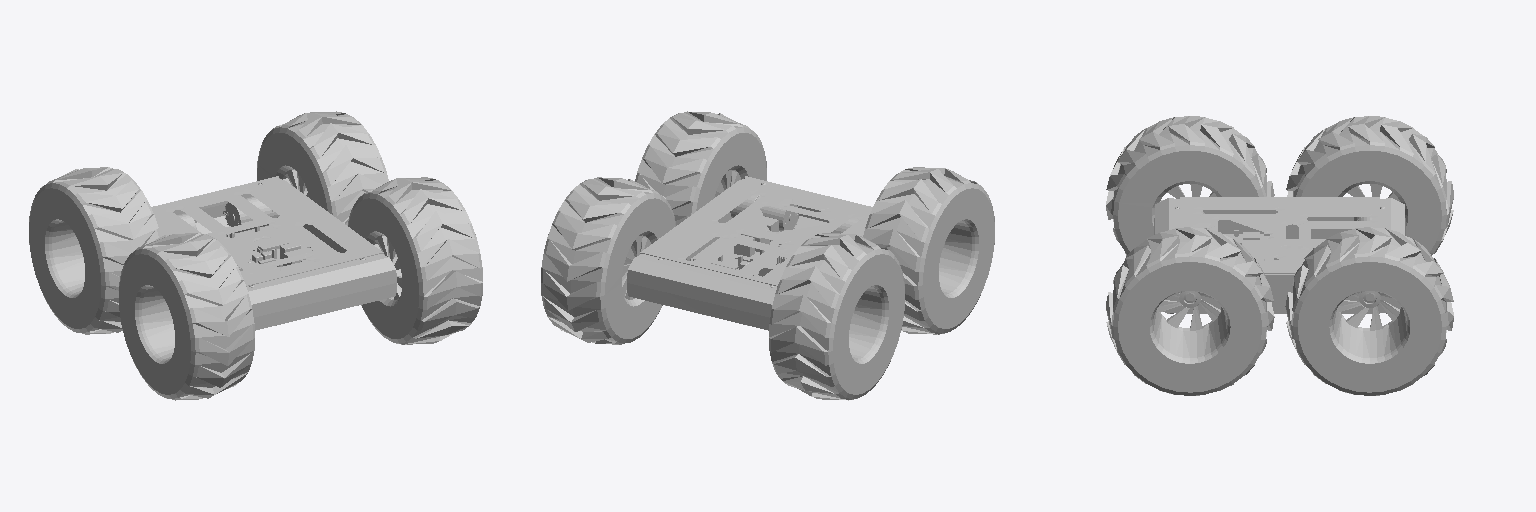
File: rover2asamblat.obj
3 renders of one model, left to right at view 1: azimuth 30°, elevation 25°; view 2: azimuth 150°, elevation 25°; view 3: azimuth 270°, elevation 25°, orthographic.
Parts seen in each view (by area): view 1: Cylinder.012_Cylinder.017, Cube.001_Cube.002; view 2: Cylinder.012_Cylinder.017, Cube.001_Cube.002; view 3: Cylinder.012_Cylinder.017, Cube.001_Cube.002.
Part boxes in pixels (bbox=[...]): Cylinder.012_Cylinder.017: bbox=[29, 111, 482, 400]; Cube.001_Cube.002: bbox=[151, 176, 396, 330]; Cylinder.012_Cylinder.017: bbox=[541, 111, 994, 400]; Cube.001_Cube.002: bbox=[627, 176, 872, 330]; Cylinder.012_Cylinder.017: bbox=[1106, 116, 1453, 395]; Cube.001_Cube.002: bbox=[1154, 197, 1405, 313].
Bounding box in the file's own units: 1.58 × 0.7903 × 1.63.